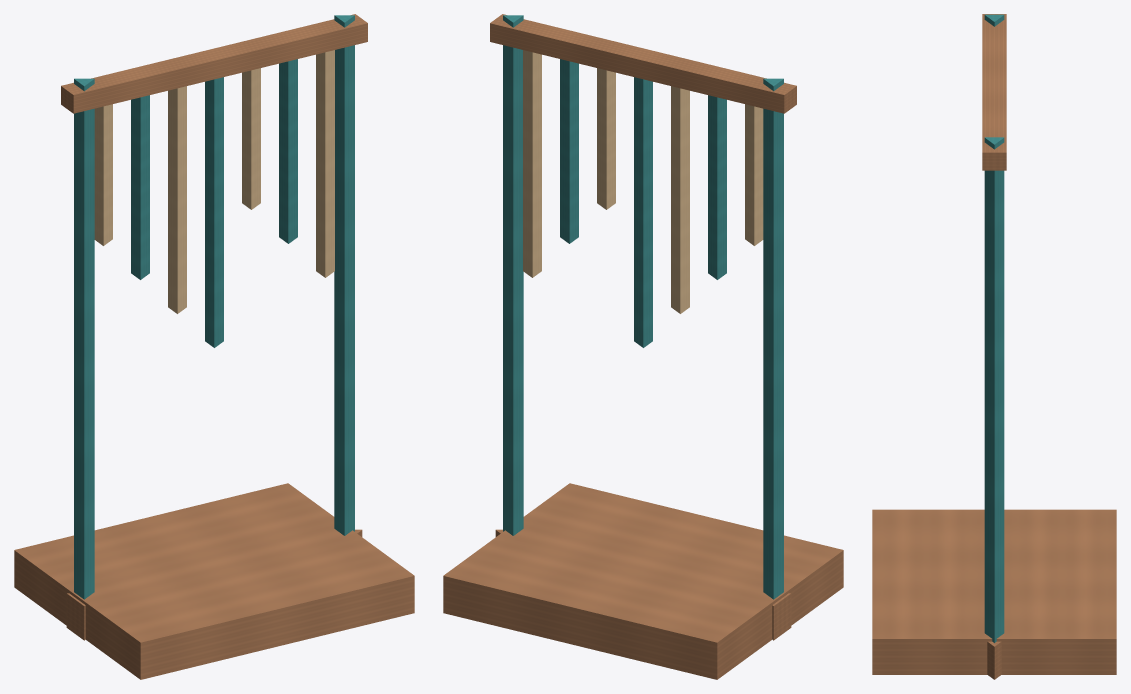
Rendered from atlas100-s093-a01.lod2.glb.
3 views of the same model, side by side, from view 1: azimuth 30°, elevation 25°; view 2: azimuth 150°, elevation 25°; view 3: azimuth 270°, elevation 25° (orthographic). The views are drawn at different scales.
Parts seen in each view (by area): view 1: atlas100-s093-a01:part-000, atlas100-s093-a01:part-003, atlas100-s093-a01:part-005, atlas100-s093-a01:part-007, atlas100-s093-a01:part-011, atlas100-s093-a01:part-014, atlas100-s093-a01:part-010, atlas100-s093-a01:part-013, atlas100-s093-a01:part-009, atlas100-s093-a01:part-012, atlas100-s093-a01:part-008, atlas100-s093-a01:part-004; view 2: atlas100-s093-a01:part-000, atlas100-s093-a01:part-003, atlas100-s093-a01:part-005, atlas100-s093-a01:part-007, atlas100-s093-a01:part-011, atlas100-s093-a01:part-014, atlas100-s093-a01:part-010, atlas100-s093-a01:part-013, atlas100-s093-a01:part-009, atlas100-s093-a01:part-012, atlas100-s093-a01:part-008, atlas100-s093-a01:part-004; view 3: atlas100-s093-a01:part-000, atlas100-s093-a01:part-005, atlas100-s093-a01:part-007, atlas100-s093-a01:part-006.
Part boxes in pixels (x1,y1,x2,y2): atlas100-s093-a01:part-000: (14, 483, 414, 679); atlas100-s093-a01:part-003: (74, 78, 94, 599); atlas100-s093-a01:part-005: (334, 15, 354, 535); atlas100-s093-a01:part-007: (61, 14, 367, 113); atlas100-s093-a01:part-011: (205, 77, 223, 347); atlas100-s093-a01:part-014: (316, 50, 334, 277); atlas100-s093-a01:part-010: (168, 86, 186, 313); atlas100-s093-a01:part-013: (279, 59, 297, 243); atlas100-s093-a01:part-009: (131, 95, 149, 279); atlas100-s093-a01:part-012: (242, 68, 260, 209); atlas100-s093-a01:part-008: (94, 104, 112, 245); atlas100-s093-a01:part-004: (66, 593, 85, 640); atlas100-s093-a01:part-000: (443, 483, 843, 679); atlas100-s093-a01:part-003: (763, 78, 783, 599); atlas100-s093-a01:part-005: (503, 15, 523, 535); atlas100-s093-a01:part-007: (490, 14, 796, 113); atlas100-s093-a01:part-011: (634, 77, 652, 347); atlas100-s093-a01:part-014: (523, 50, 541, 277); atlas100-s093-a01:part-010: (671, 86, 689, 313); atlas100-s093-a01:part-013: (560, 59, 578, 243); atlas100-s093-a01:part-009: (708, 95, 726, 279); atlas100-s093-a01:part-012: (597, 68, 615, 209); atlas100-s093-a01:part-008: (745, 104, 763, 245); atlas100-s093-a01:part-004: (772, 593, 791, 640); atlas100-s093-a01:part-000: (872, 509, 1116, 674); atlas100-s093-a01:part-005: (984, 137, 1004, 642); atlas100-s093-a01:part-007: (982, 14, 1006, 170); atlas100-s093-a01:part-006: (987, 641, 1001, 679).
Size of the model in its own units: 2.16 by 3.84 by 1.6.
3 materials, 3 textured.
